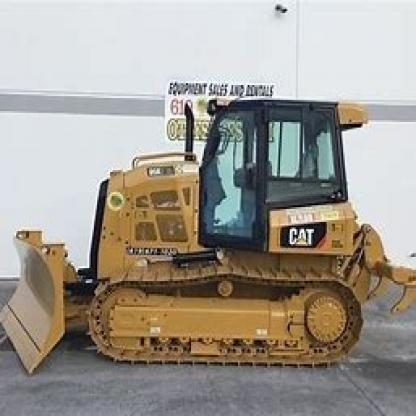bull_dozer/loader/grader: (8, 76, 411, 392)
